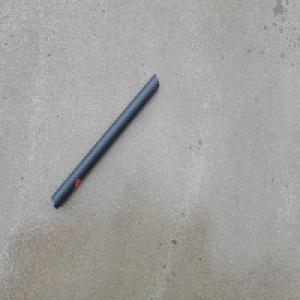LuggagePart: (51, 72, 160, 211)
